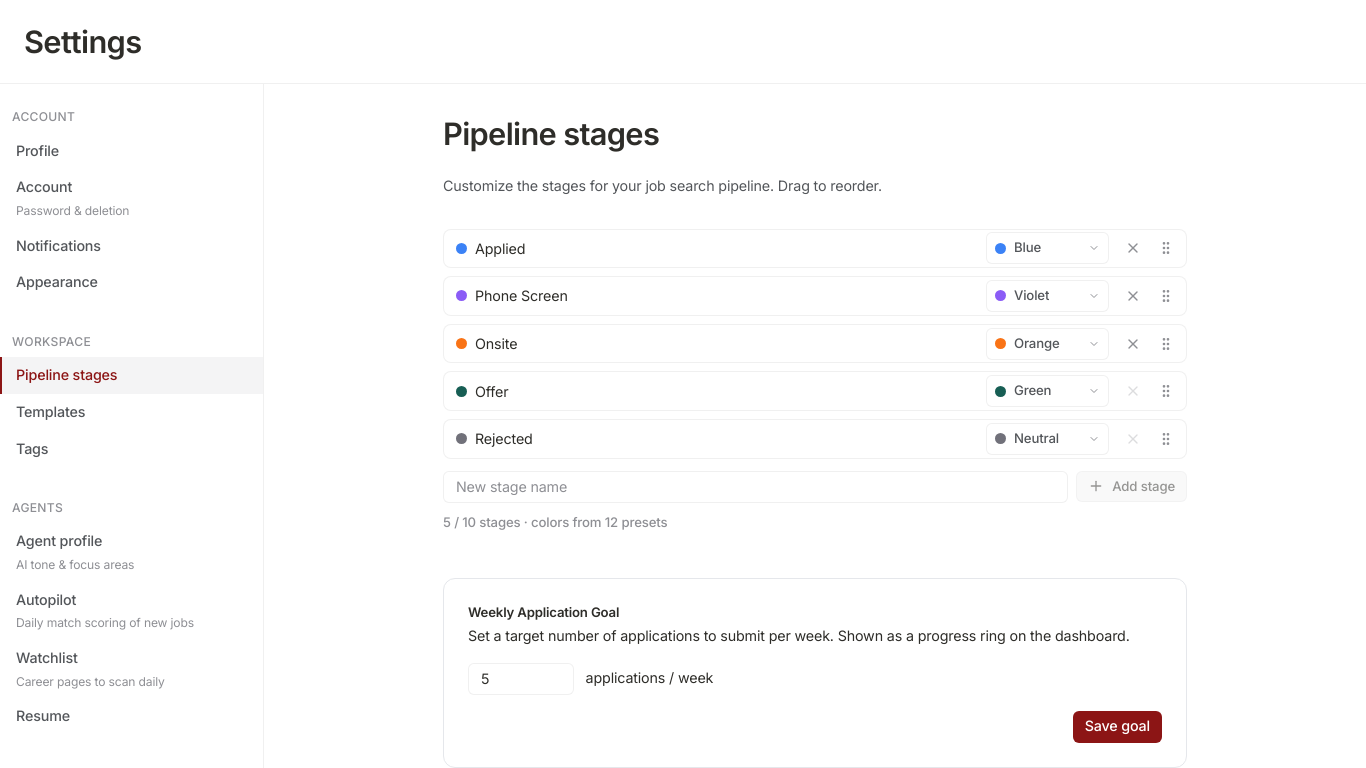
Settings page › pipeline stages section › should add a new stage when Add is clicked
The width and height of the screenshot is (1366, 768).
expect the field showing "Applied" is shown: met, box [475,232,978,264]
Type "Screening" into the field labelled "New stage name".
click(756, 486); type("Screening")  # box [443,470,1068,502]
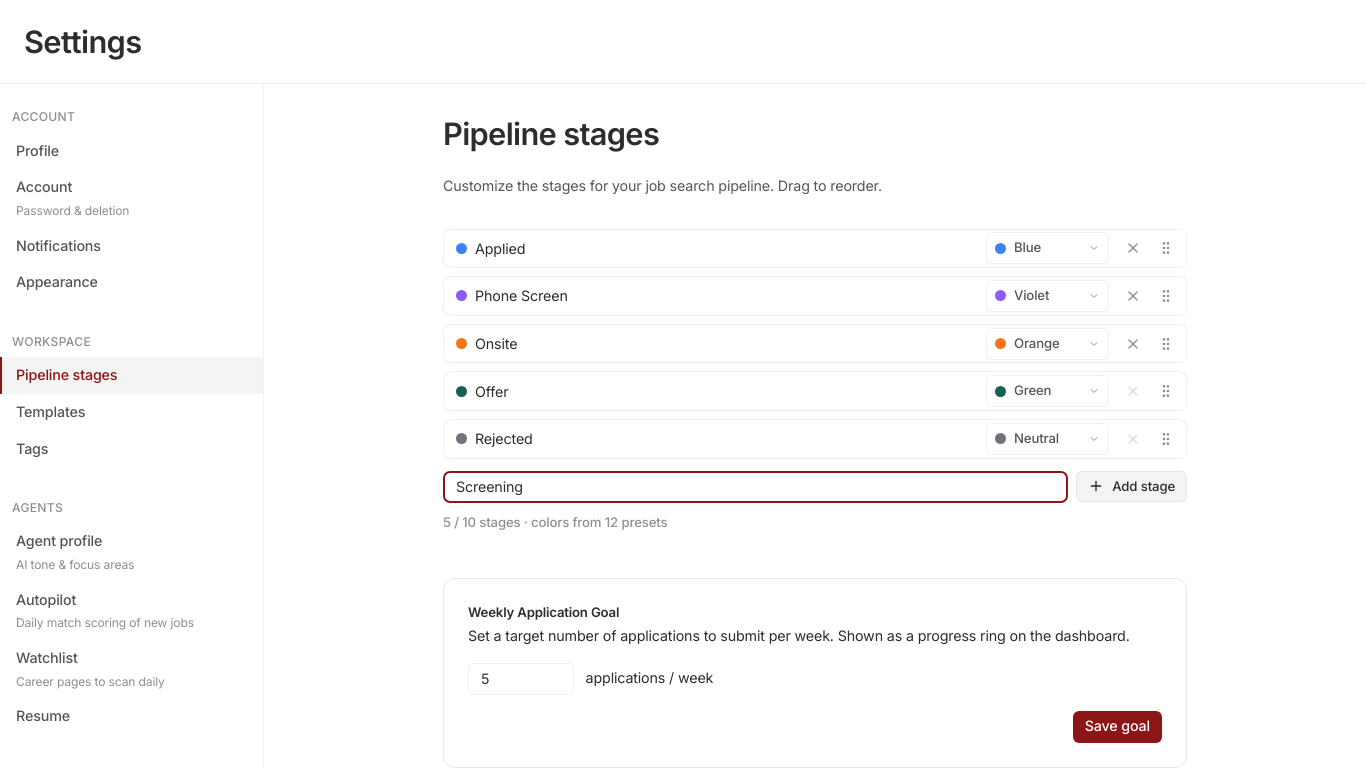
Click the button "Add stage".
click(1132, 486)  # box [1076,471,1187,502]
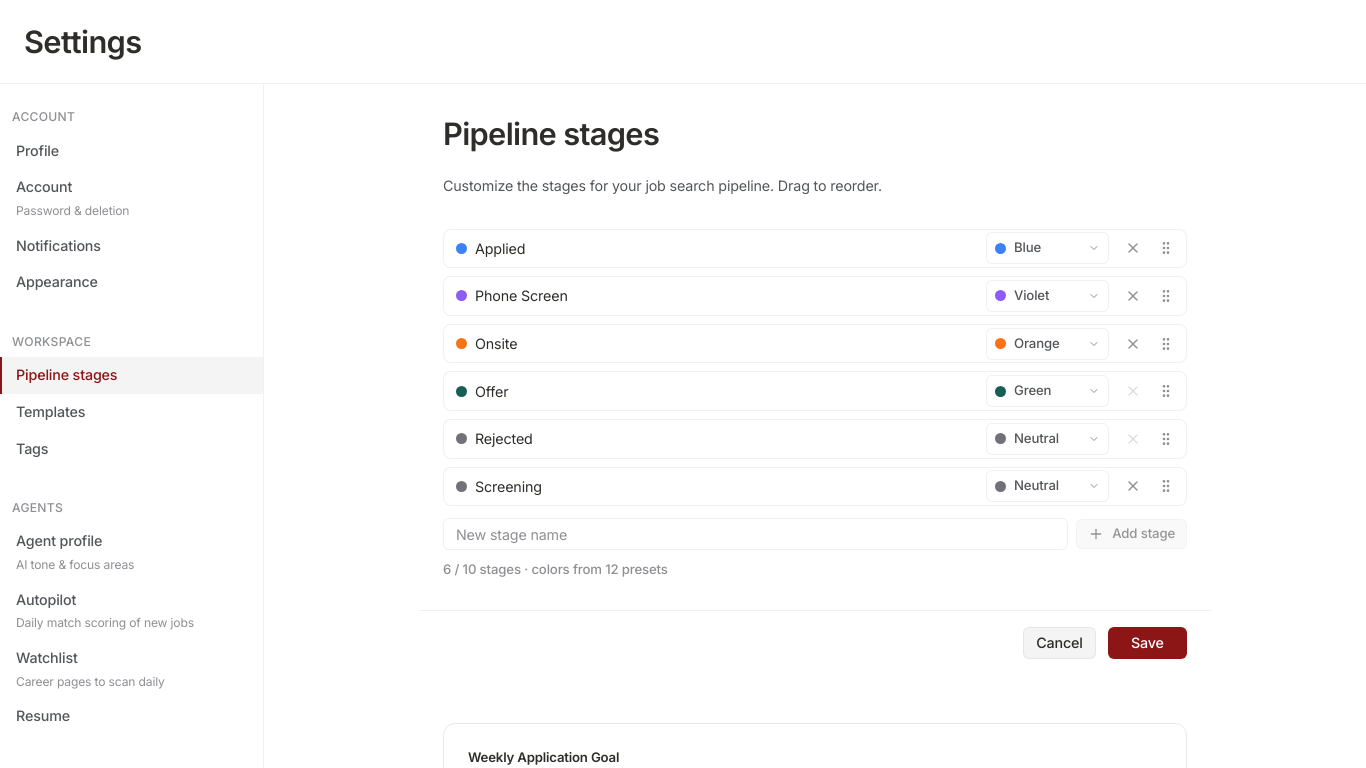
expect the field showing "Screening" is shown: met, box [475,470,978,502]
